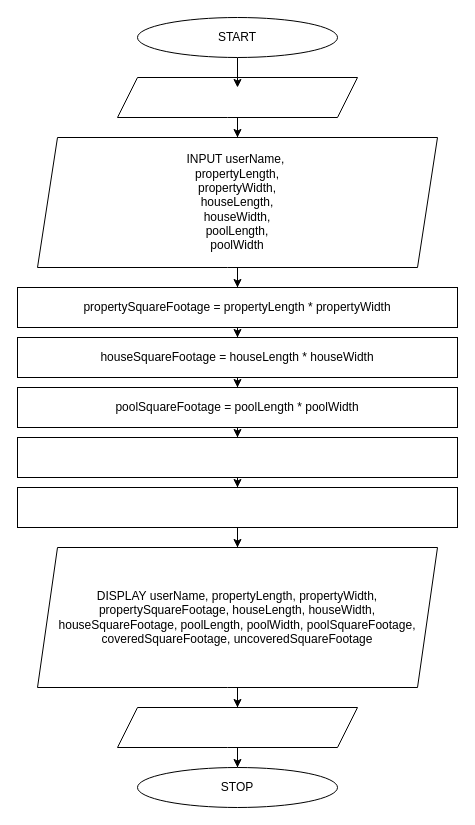
The diagram is 475 pixels wide and 825 high, and some of its shapes have lost their labels. Here are the shapes that lost their labels. From the top down, the centre of each, then its label:
At point (237, 97): "DISPLAY Welcome Banner".
At point (237, 457): "coveredSquareFootage = houseSquareFootage + poolSquareFootage".
At point (237, 507): "uncoveredSquareFootage = propertySquareFootage - coveredSquareFootage".
At point (237, 727): "DISPLAY Farewell Message".
